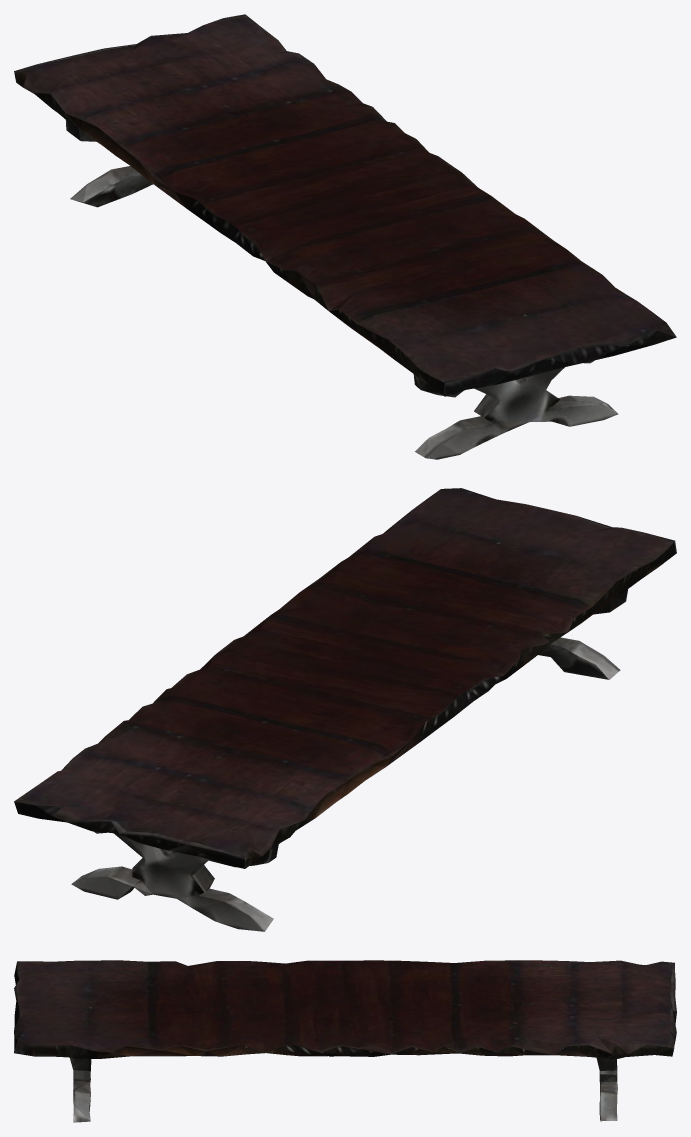
File: gym_bench.glb
3 views of the same model, one above another, from view 1: azimuth 30°, elevation 25°; view 2: azimuth 150°, elevation 25°; view 3: azimuth 270°, elevation 25° (orthographic). The views are drawn at different scales.
Parts seen in each view (by area): view 1: m; view 2: m; view 3: m.
Part boxes in pixels (x1,y1,x2,y2): m: (14, 14, 676, 459); m: (14, 488, 676, 931); m: (14, 960, 676, 1122).
Bounding box in the file's own units: 0.8733 × 0.4 × 2.76.
Materials: 1 (1 with a texture image).
